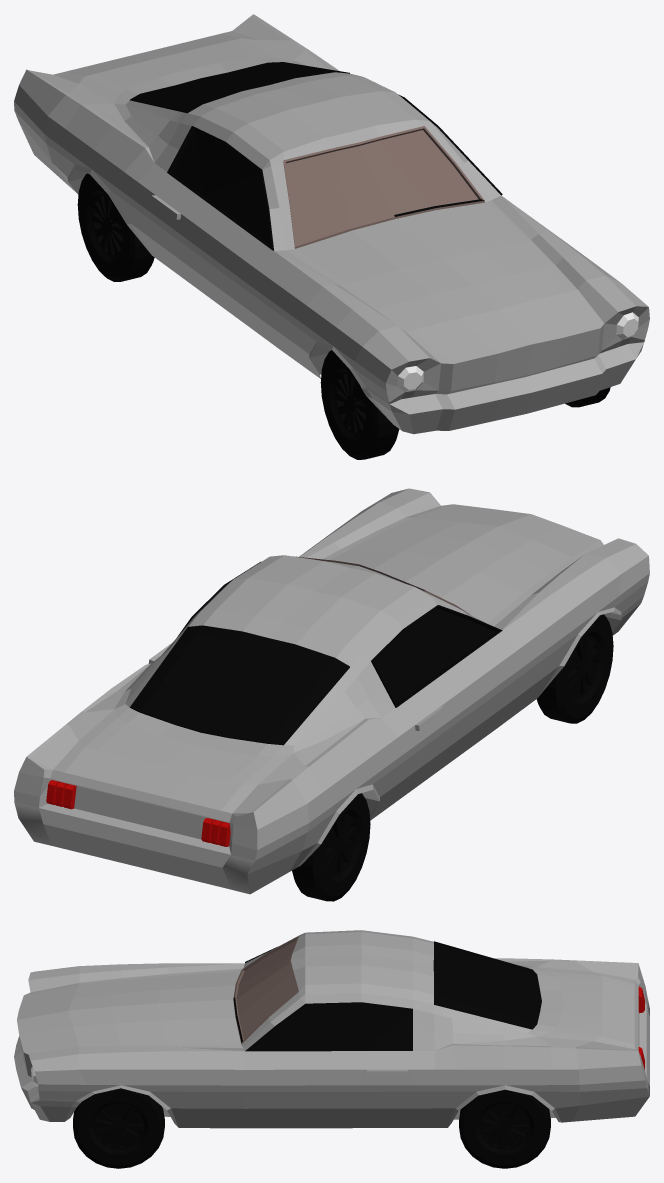
Rendered from car_uv.fbx.
3 renders of one model, top to bottom at view 1: azimuth 30°, elevation 25°; view 2: azimuth 150°, elevation 25°; view 3: azimuth 270°, elevation 25°, orthographic. The views are drawn at different scales.
Parts seen in each view (by area): view 1: pasted__Car_Body, Car_Window_Windshield, Car_Window_Right, Car_Tires_Front, Car_Tires_Rear, Car_Window_Rear; view 2: pasted__Car_Body, Car_Window_Right, Car_Tires_Rear, Car_Tires_Front, Car_Window_Rear; view 3: pasted__Car_Body, Car_Window_Left, Car_Tires_Front, Car_Tires_Rear, Car_Window_Windshield, Car_Window_Rear.
Part boxes in pixels (box(x1,y1,x2,y2)): pasted__Car_Body: box(14, 14, 649, 434); Car_Window_Windshield: box(283, 126, 484, 248); Car_Window_Right: box(167, 126, 273, 250); Car_Tires_Front: box(320, 350, 610, 459); Car_Tires_Rear: box(77, 173, 154, 281); Car_Window_Rear: box(130, 62, 349, 113); pasted__Car_Body: box(14, 488, 649, 894); Car_Window_Right: box(371, 605, 502, 707); Car_Tires_Rear: box(292, 793, 370, 901); Car_Tires_Front: box(536, 614, 613, 723); Car_Window_Rear: box(130, 625, 349, 745); pasted__Car_Body: box(14, 930, 649, 1128); Car_Window_Left: box(245, 1002, 412, 1051); Car_Tires_Front: box(73, 1088, 164, 1168); Car_Tires_Rear: box(459, 1089, 550, 1168); Car_Window_Windshield: box(233, 936, 298, 1044); Car_Window_Rear: box(433, 941, 541, 1029).
Bounding box in the file's own units: 131 × 98.24 × 336.
